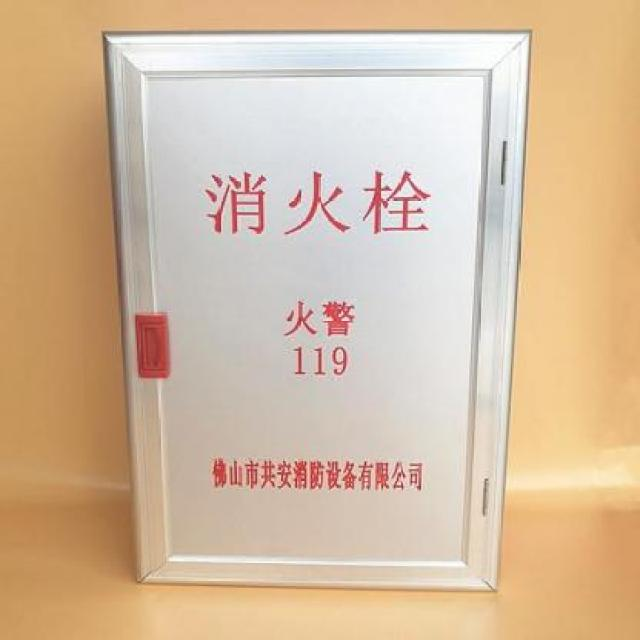firehydrant: (98, 24, 534, 596)
